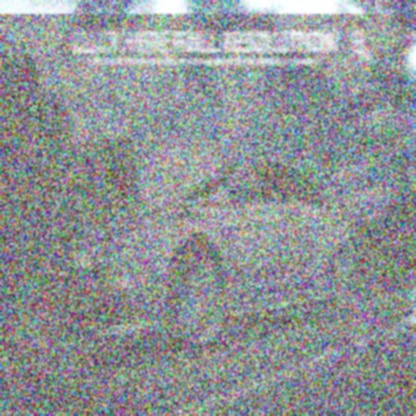Vehicle: (54, 150, 366, 366)
